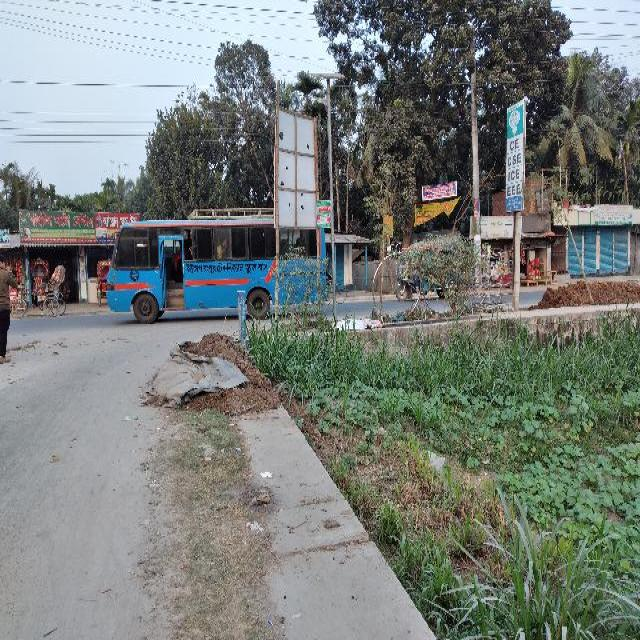13: (10, 265, 66, 319), (26, 255, 49, 302), (93, 253, 109, 307)
Car: (394, 236, 468, 303)
Truck: (104, 198, 336, 318)
